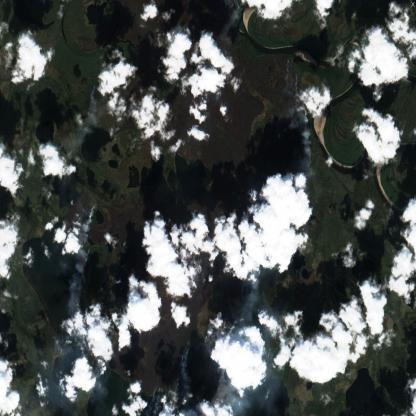fire: (153, 268, 280, 410), (277, 40, 322, 186), (74, 188, 105, 281), (81, 75, 112, 125)
